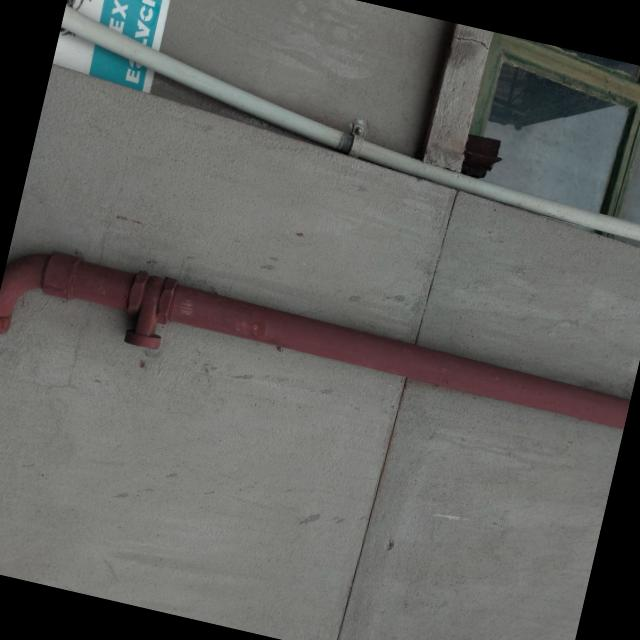gas: (26, 248, 634, 430)
